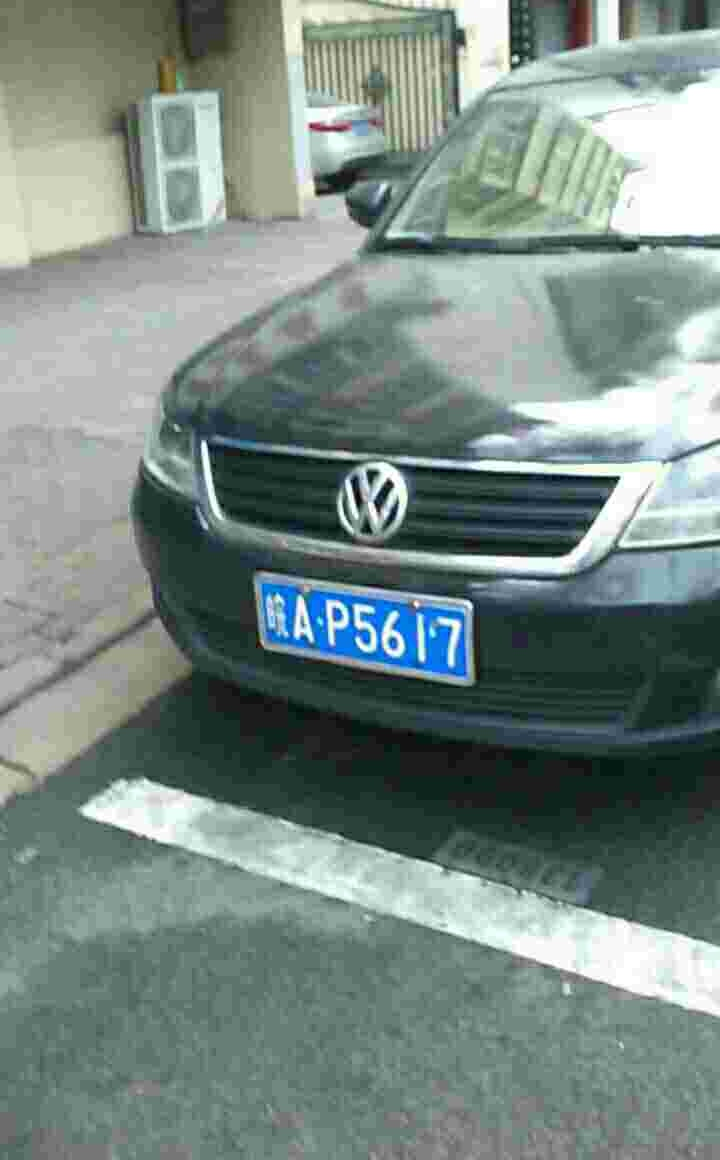plate: (255, 572, 475, 685)
